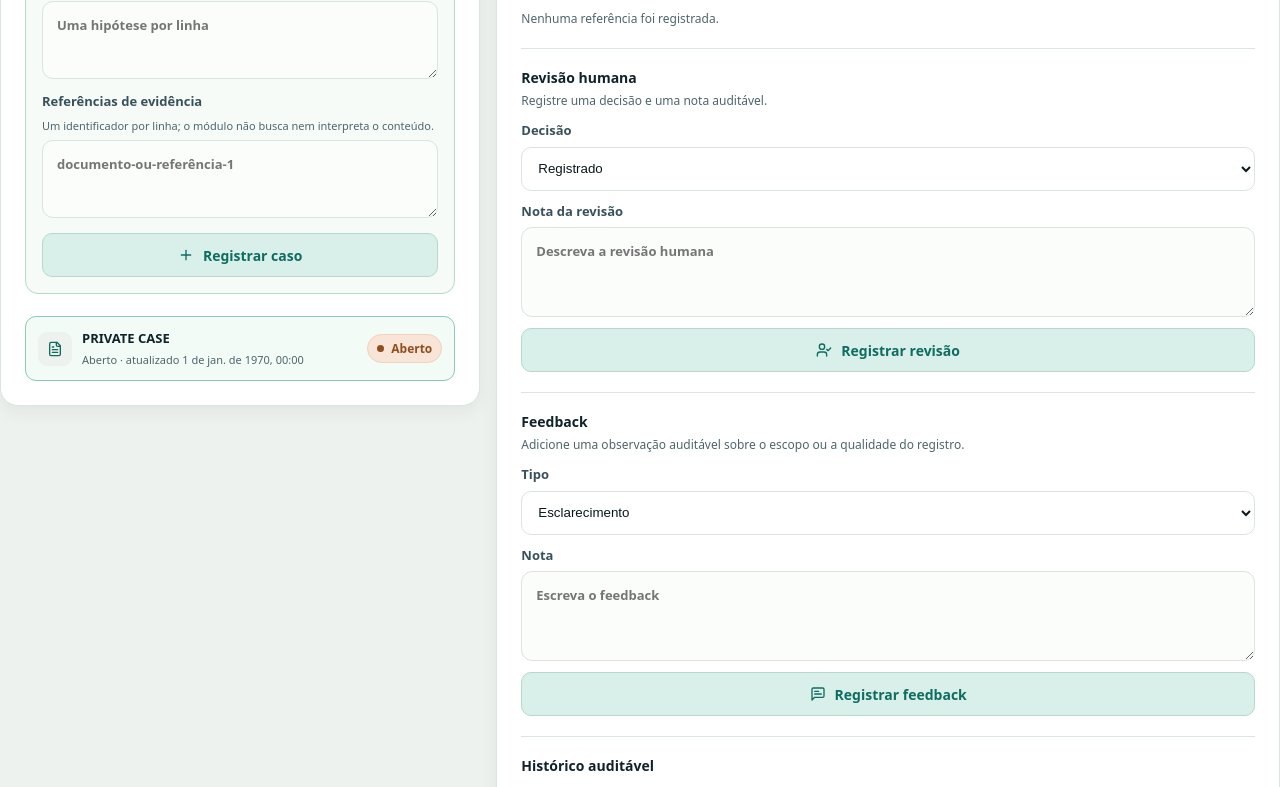
Test: separates catalog failure from case availability and detail failure from empty case data
The image size is (1280, 787).
(page scrolled)
What coordinates should you click on to do the following:
click the button that starts with "PRIVATE CASE"
I would click on:
 (240, 349)
Its box is [25,316,455,381].
(page scrolled)
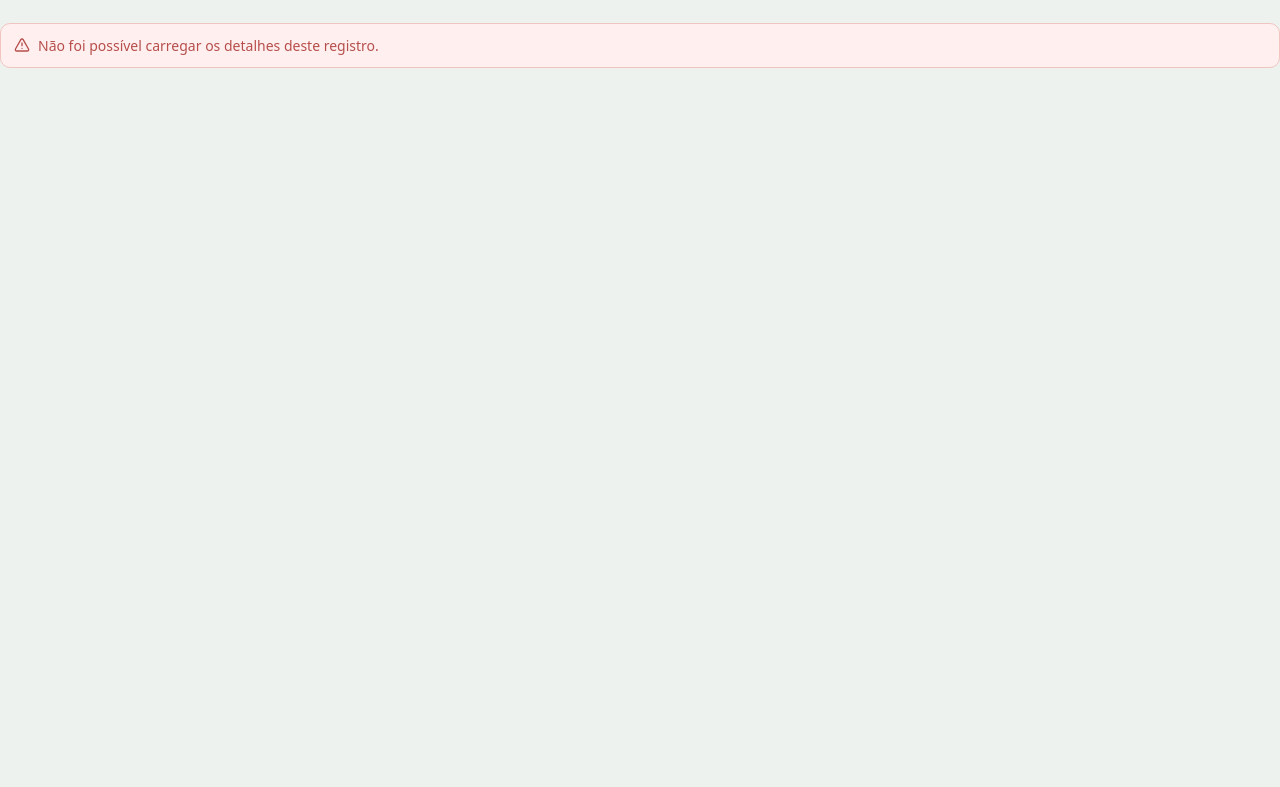
Expected: the text "Não foi possível carregar os detalhes" is shown, [38,36,379,55]
